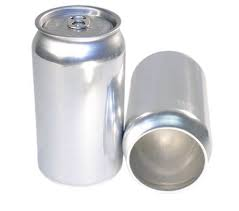metal: (27, 3, 127, 188), (123, 50, 213, 191)
